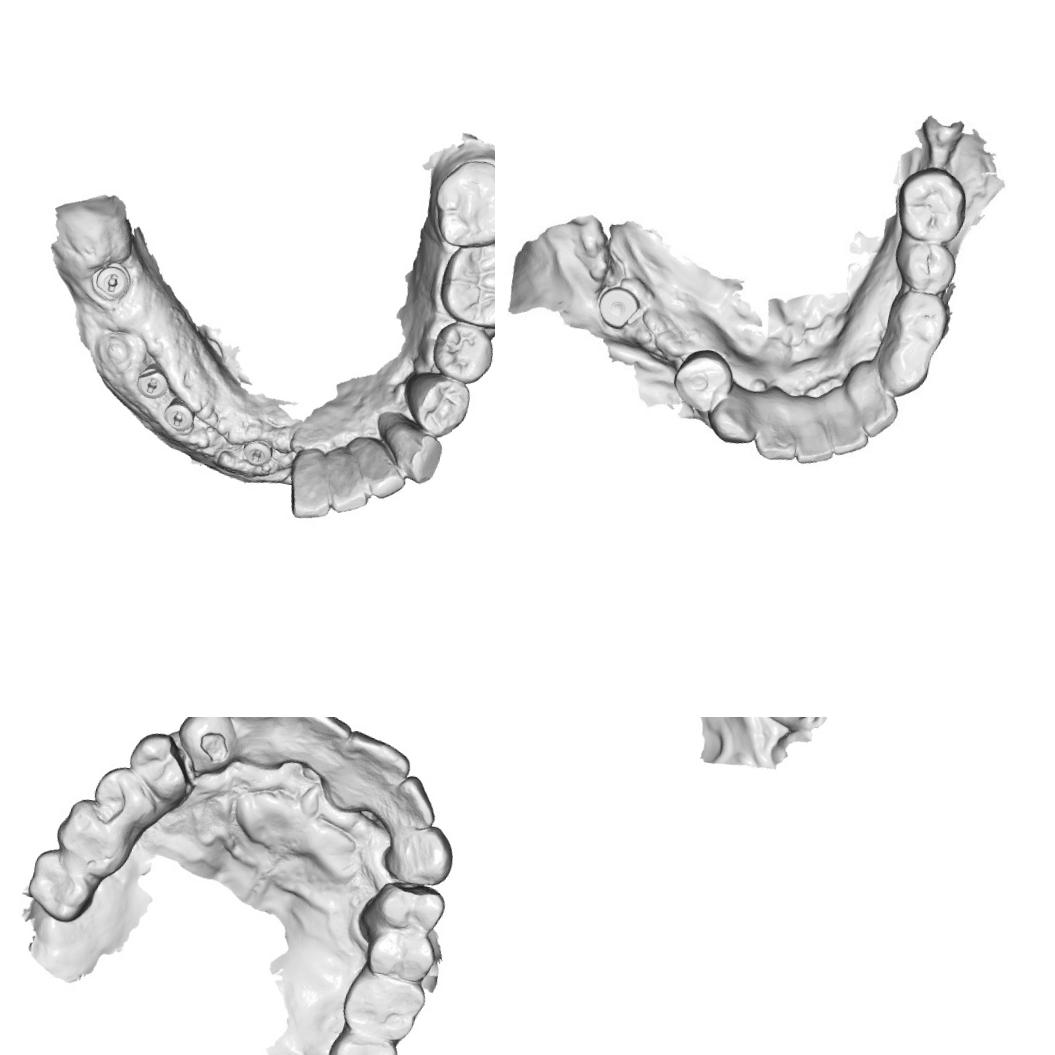canine: (376, 816, 458, 893), (372, 419, 450, 488), (166, 717, 244, 780), (874, 333, 934, 398), (706, 388, 763, 450)
implant: (591, 282, 648, 336)
implant_minus: (88, 253, 134, 304), (238, 434, 282, 475), (129, 358, 168, 400), (158, 397, 198, 436)
incisor: (324, 724, 416, 821), (375, 767, 447, 837), (318, 444, 379, 520), (284, 446, 341, 524), (275, 717, 357, 770), (218, 717, 292, 773), (749, 397, 808, 466), (350, 440, 410, 504), (850, 377, 903, 442), (790, 406, 844, 468), (822, 398, 874, 461), (757, 717, 836, 735)
molar: (47, 793, 138, 885), (336, 962, 429, 1050), (890, 162, 977, 249), (18, 842, 102, 928), (427, 152, 495, 256), (432, 233, 495, 332), (320, 1029, 402, 1055)
premolar: (392, 364, 476, 444), (121, 726, 200, 807), (357, 872, 448, 942), (86, 761, 166, 836), (360, 918, 442, 990), (423, 314, 495, 388), (883, 288, 960, 356), (669, 344, 738, 416), (896, 234, 962, 294)
